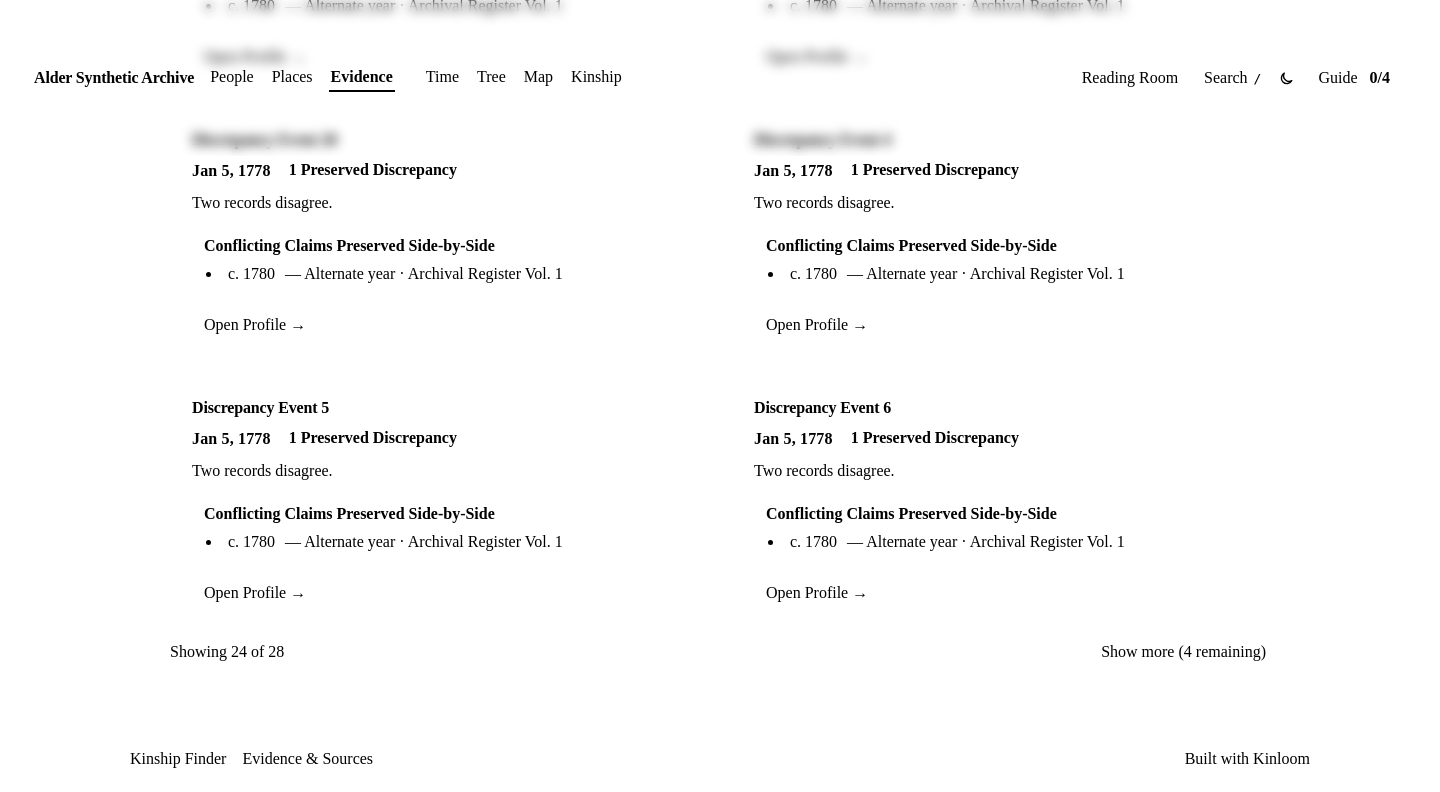
Test: MilestoneStoryCard 56ch figcaption cap and EvidencePage editorial serif, EDTF, and pagination (#63) › renders serif prose discrepancy claims, human EDTF dates, and batched pagination on /evidence
This screenshot has width=1440, height=792.
Later steps or results of the test are not shown.
(page scrolled)
Click the button "Show more (4 remaining)" at {"x": 1184, "y": 652}, box [1097,638,1270,666]
(page scrolled)
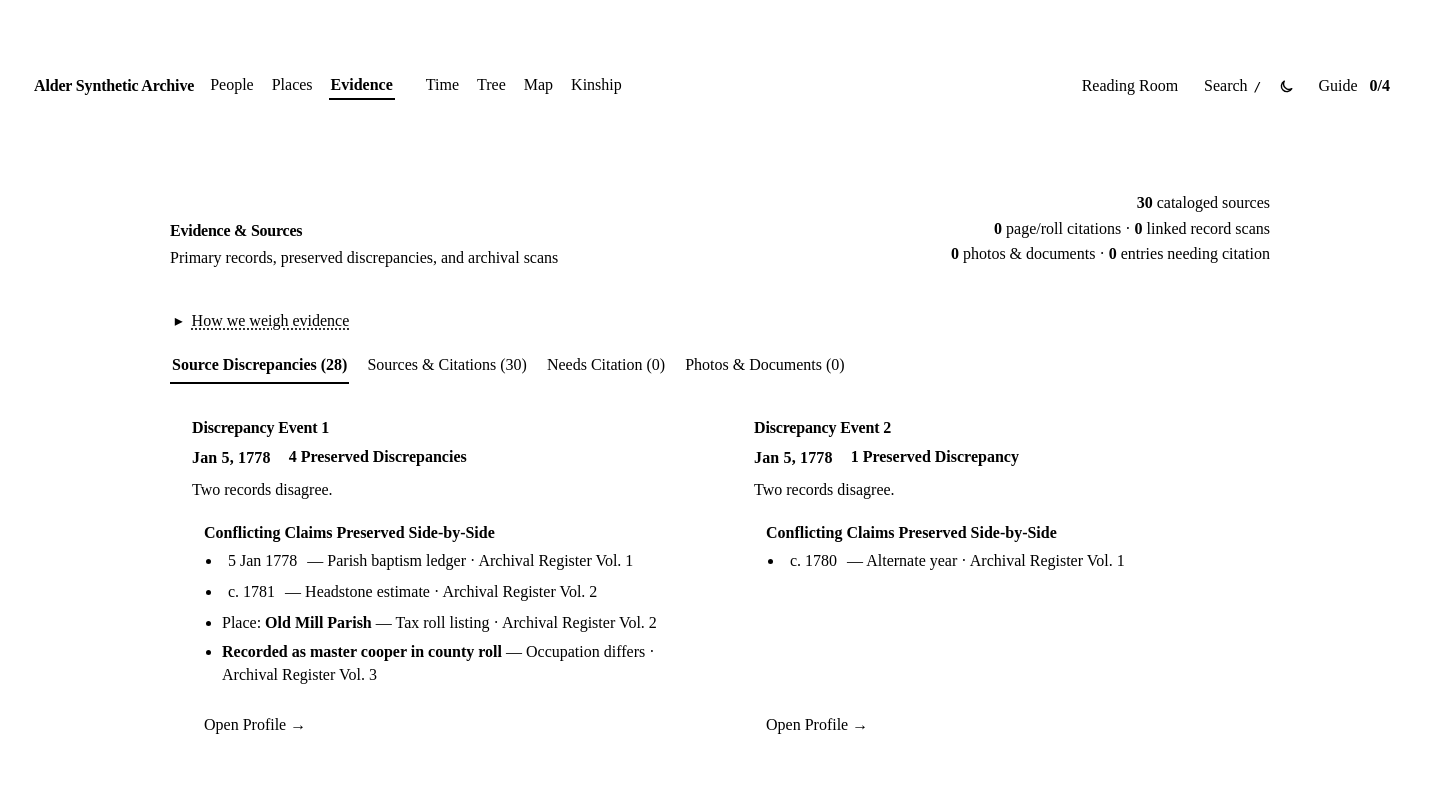
Click the tab "Sources & Citations (30)" at {"x": 447, "y": 367}, box [365,350,529,384]
(page scrolled)
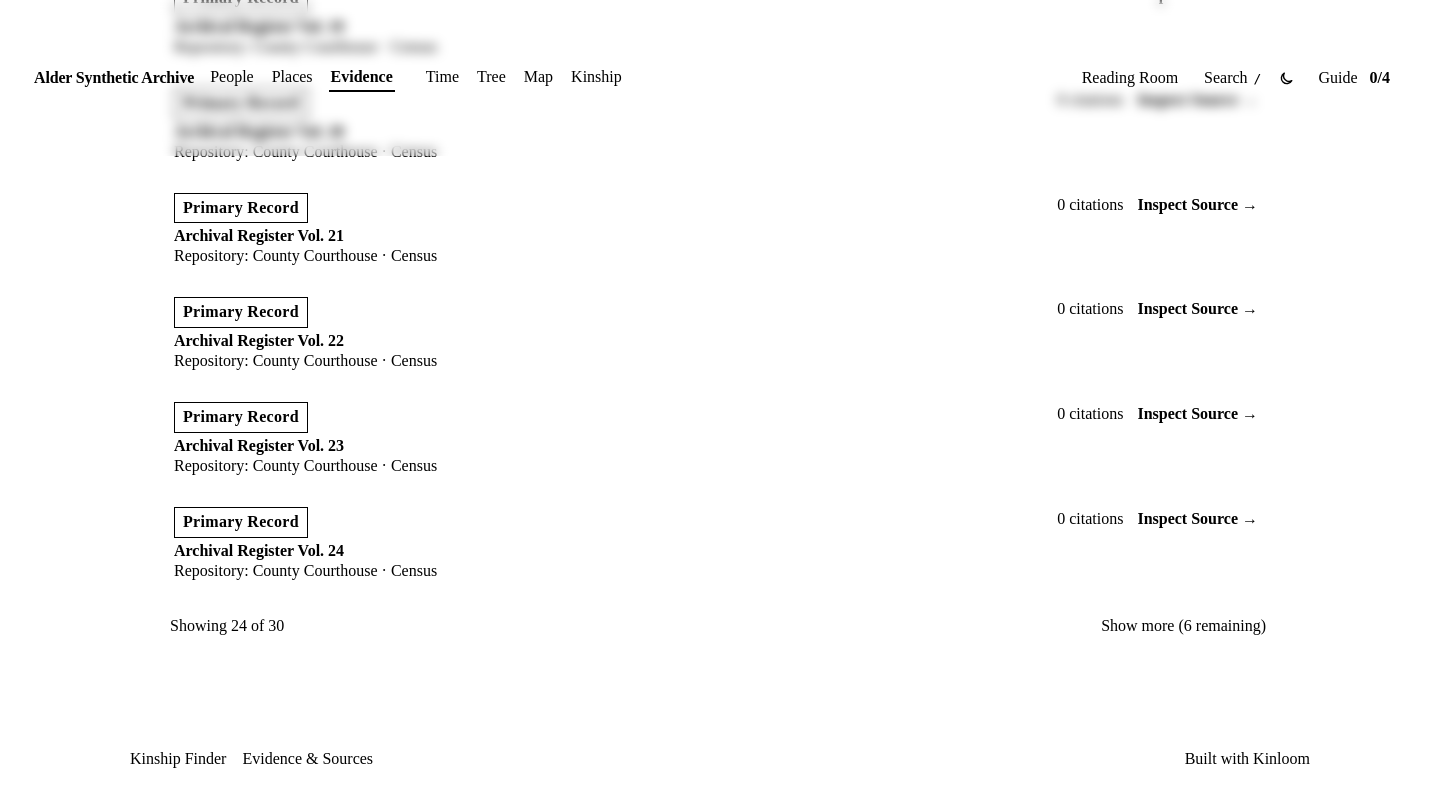
expect the text "Showing 24 of 30" is shown: met, box [170,617,284,635]
Click the button "Show more (6 remaining)" at {"x": 1184, "y": 626}, box [1097,612,1270,640]
(page scrolled)
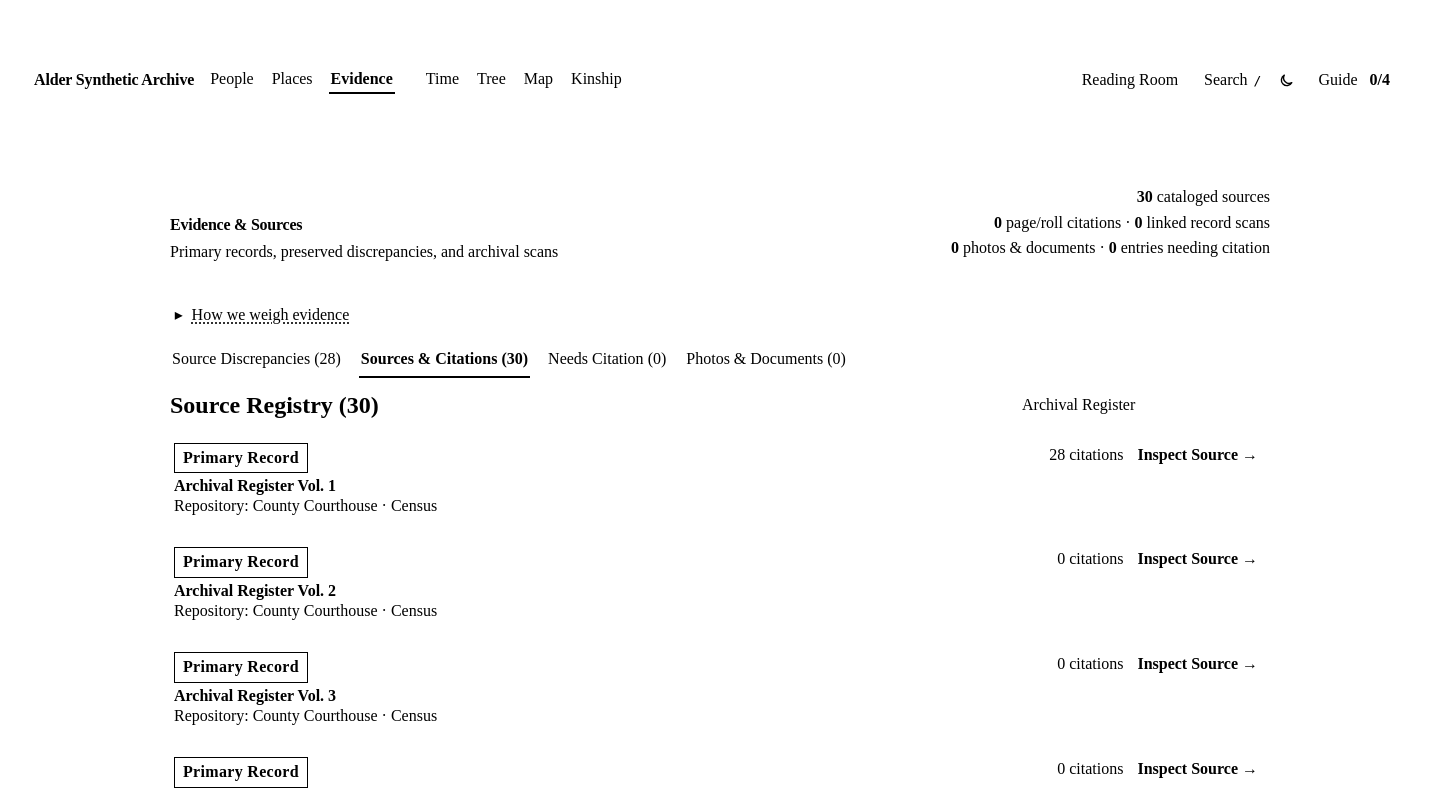
expect the search field named "Filter archival sources" is shown: met, box [1010,396,1270,414]
